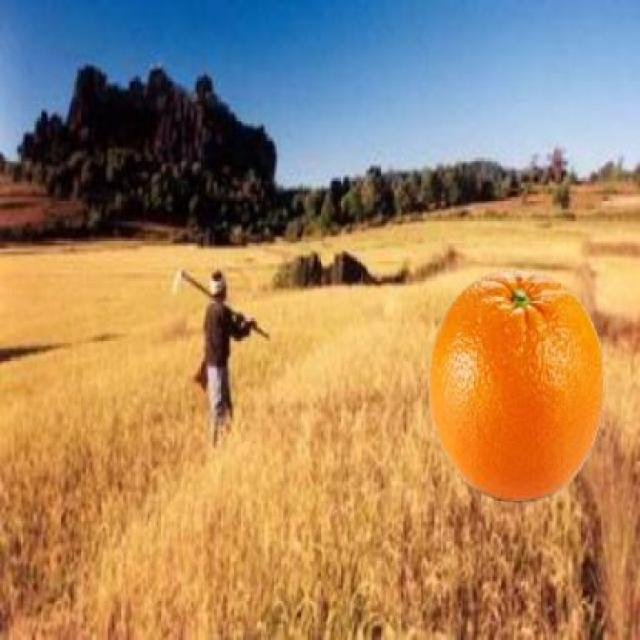Orange: (426, 268, 605, 502)
